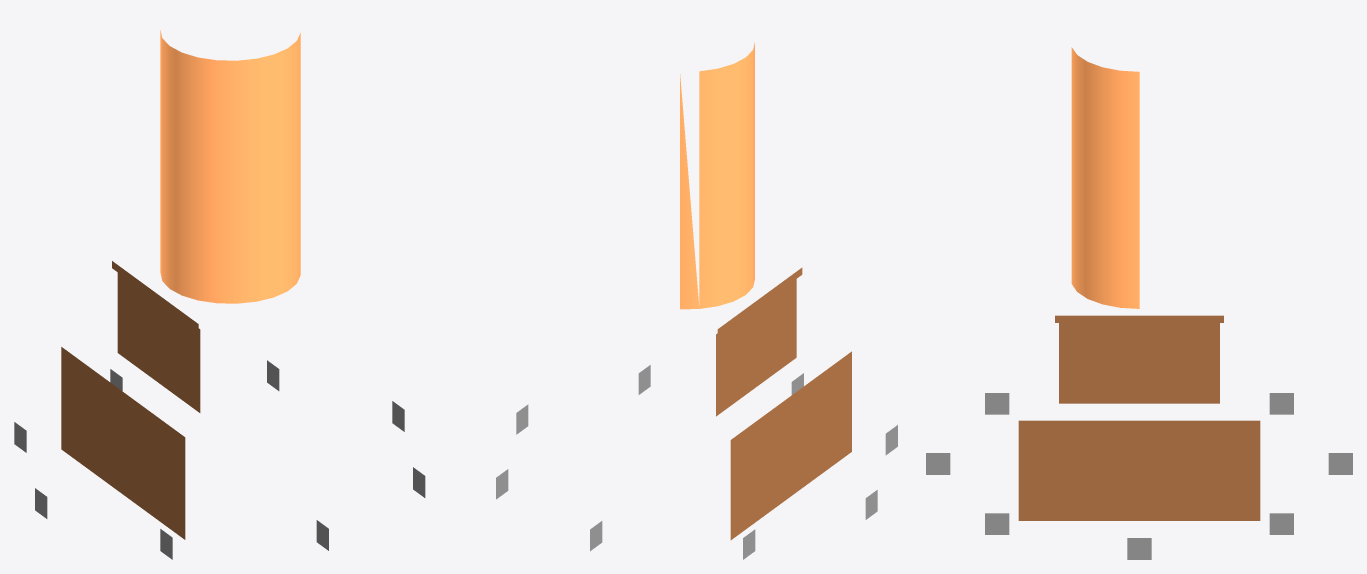
Rendered from ExperimentalRoom.glb.
3 views of the same model, side by side, from view 1: azimuth 30°, elevation 25°; view 2: azimuth 150°, elevation 25°; view 3: azimuth 270°, elevation 25° (orthographic). The views are drawn at different scales.
Size of the model in its own units: 2.12 by 2.34 by 2.12.
